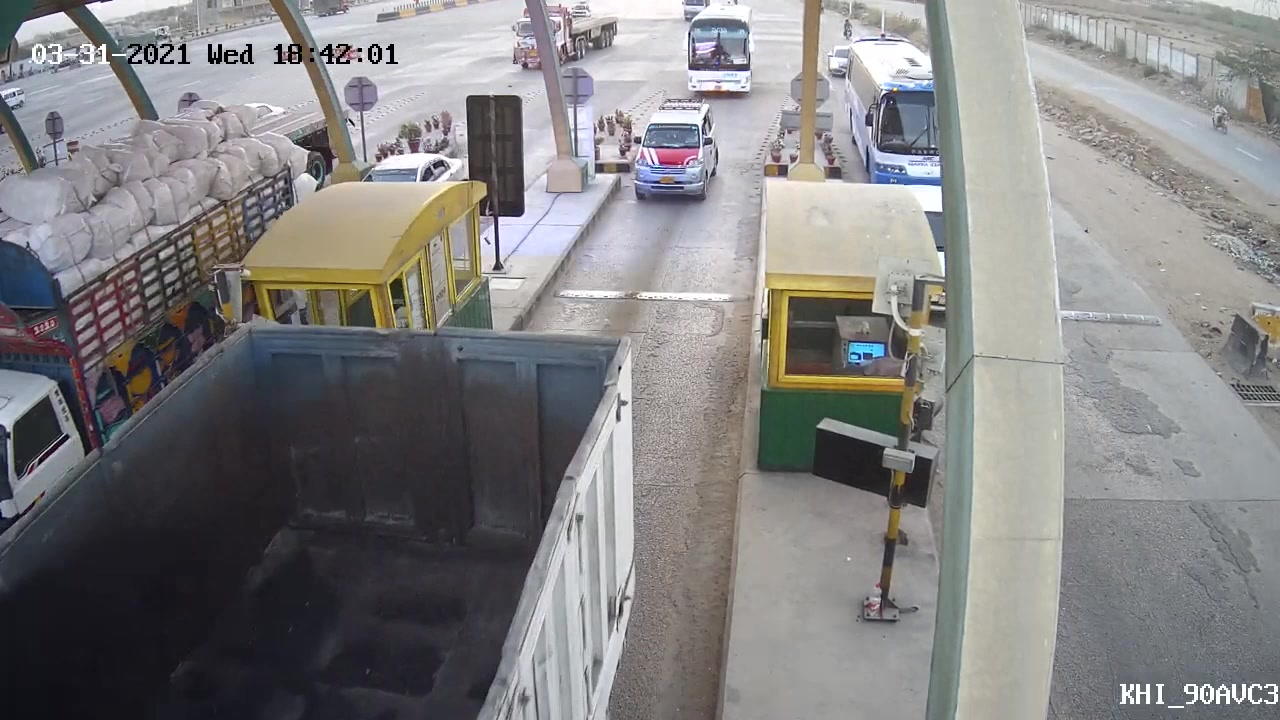F1: (629, 89, 730, 213)
